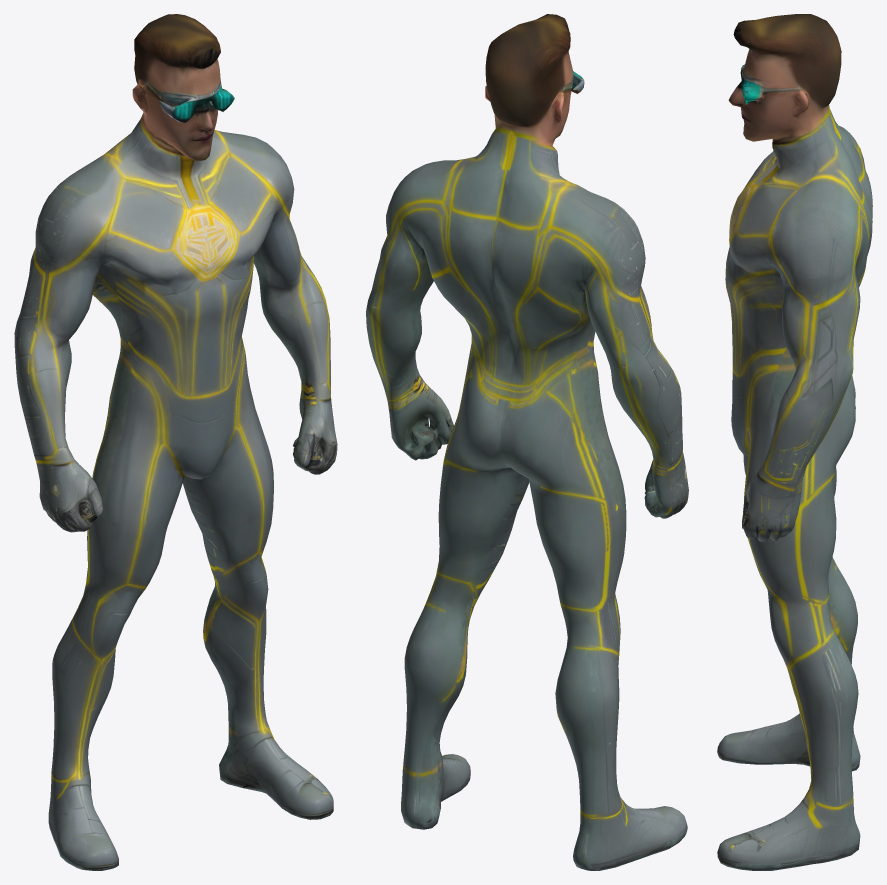
The model's file is herolumeman.glb.
3 views of the same model, side by side, from view 1: azimuth 30°, elevation 25°; view 2: azimuth 150°, elevation 25°; view 3: azimuth 270°, elevation 25° (orthographic).
Size of the model in its own units: 0.7919 by 1.99 by 0.3554.
Materials: 1 (1 with a texture image).
